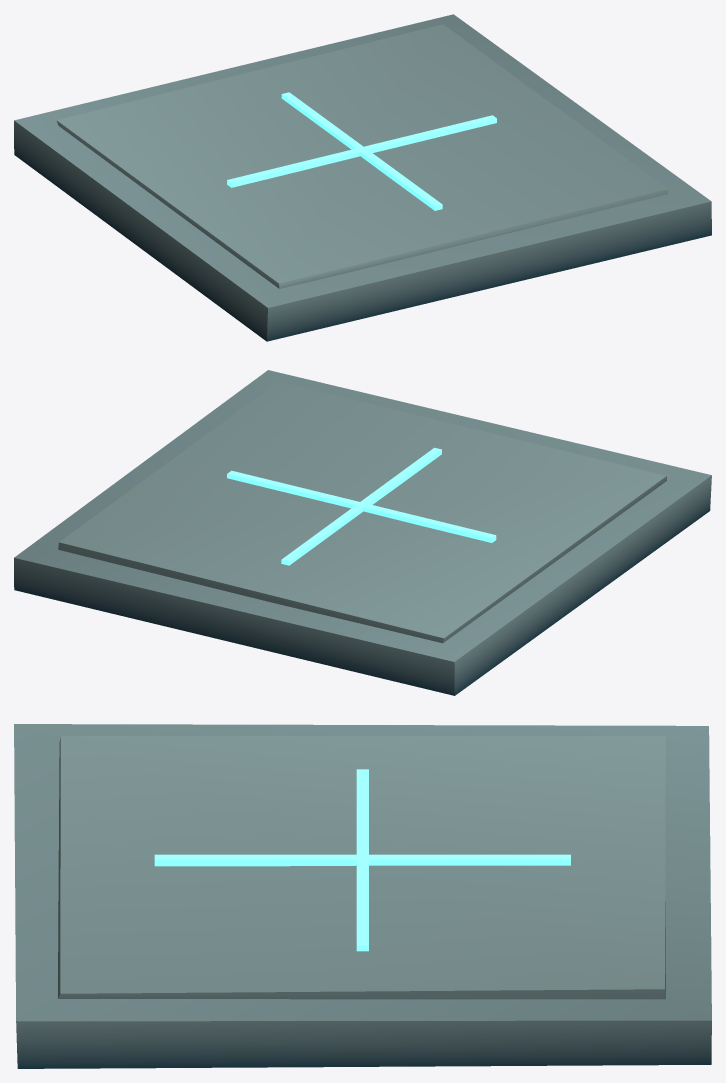
The model's file is ruin_floor_tile.glb.
The picture shows the model from 3 angles, top to bottom: view 1: azimuth 30°, elevation 25°; view 2: azimuth 150°, elevation 25°; view 3: azimuth 270°, elevation 25°; orthographic projection. The views are drawn at different scales.
Parts seen in each view (by area): view 1: ruin_floor_tile_stone, ruin_floor_tile_glow; view 2: ruin_floor_tile_stone, ruin_floor_tile_glow; view 3: ruin_floor_tile_stone, ruin_floor_tile_glow.
Part boxes in pixels (x1,y1,x2,y2): ruin_floor_tile_stone: (14,14,711,341); ruin_floor_tile_glow: (227,92,496,210); ruin_floor_tile_stone: (14,370,711,695); ruin_floor_tile_glow: (227,447,496,565); ruin_floor_tile_stone: (14,724,711,1068); ruin_floor_tile_glow: (154,769,570,951).
Bounding box in the file's own units: 4.02 × 0.4086 × 4.03.
